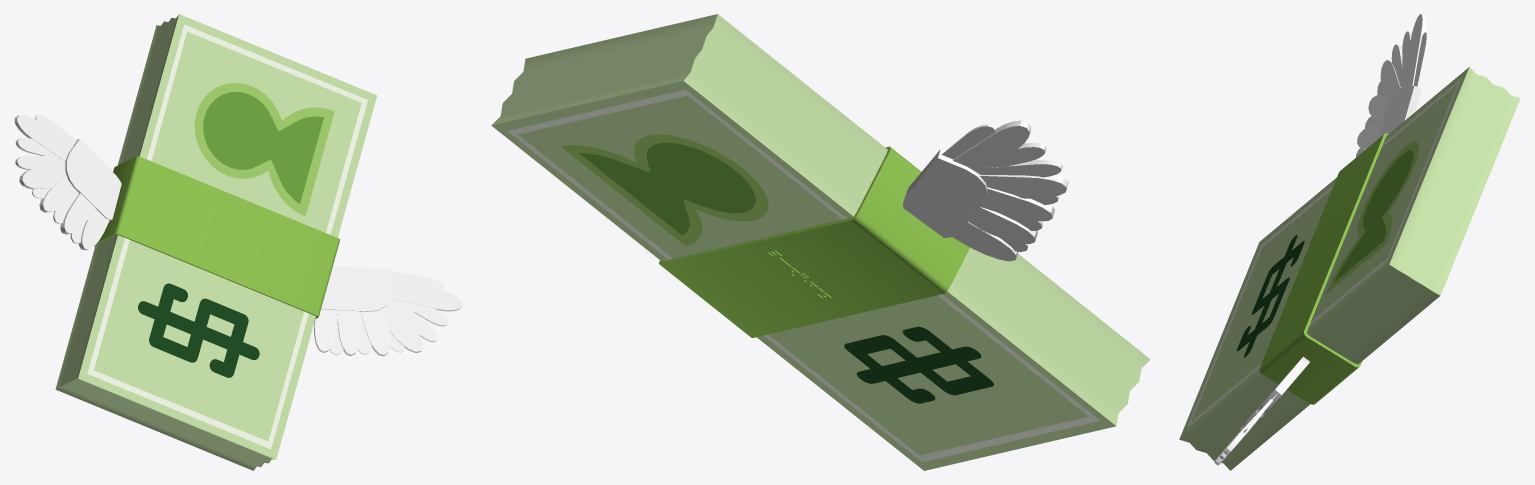
The model's file is money_with_wings.fbx.
3 views of the same model, side by side, from view 1: azimuth 30°, elevation 25°; view 2: azimuth 150°, elevation 25°; view 3: azimuth 270°, elevation 25° (orthographic). The views are drawn at different scales.
Parts seen in each view (by area): view 1: Cube.959; view 2: Cube.959; view 3: Cube.959.
Boxes of the visible parts, x1,y1,x2,y2 form: Cube.959: (14, 14, 462, 470); Cube.959: (491, 14, 1150, 470); Cube.959: (1179, 14, 1520, 470).
Bounding box in the file's own units: 212 × 203 × 149.
1 material, 1 textured.
